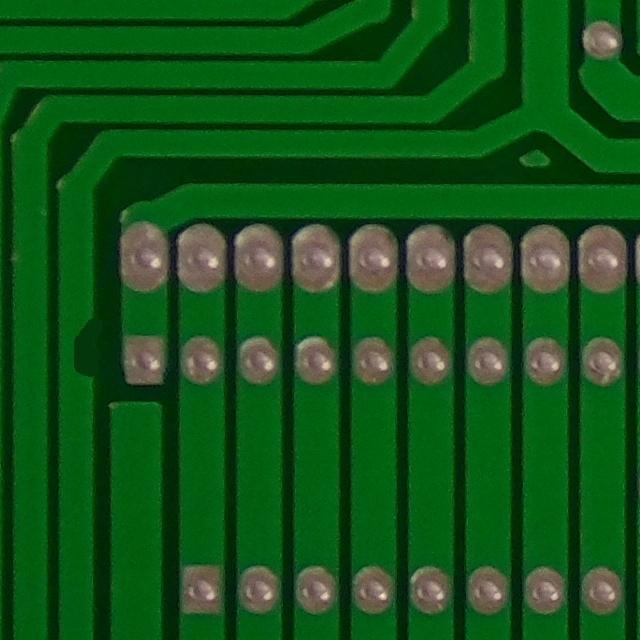mouse_bite: (51, 306, 117, 397)
